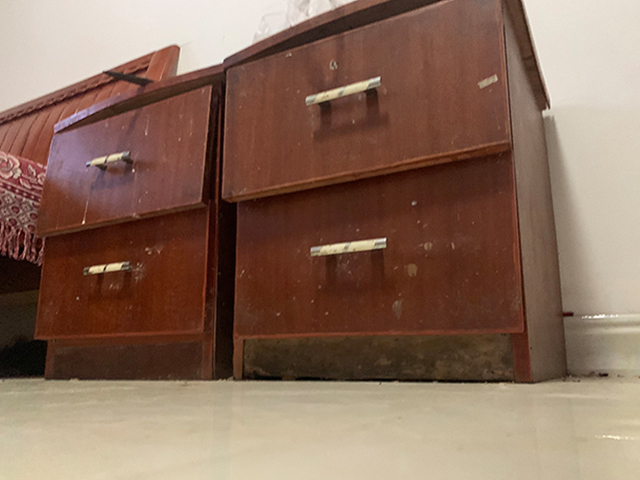cabinet: (33, 1, 566, 385)
